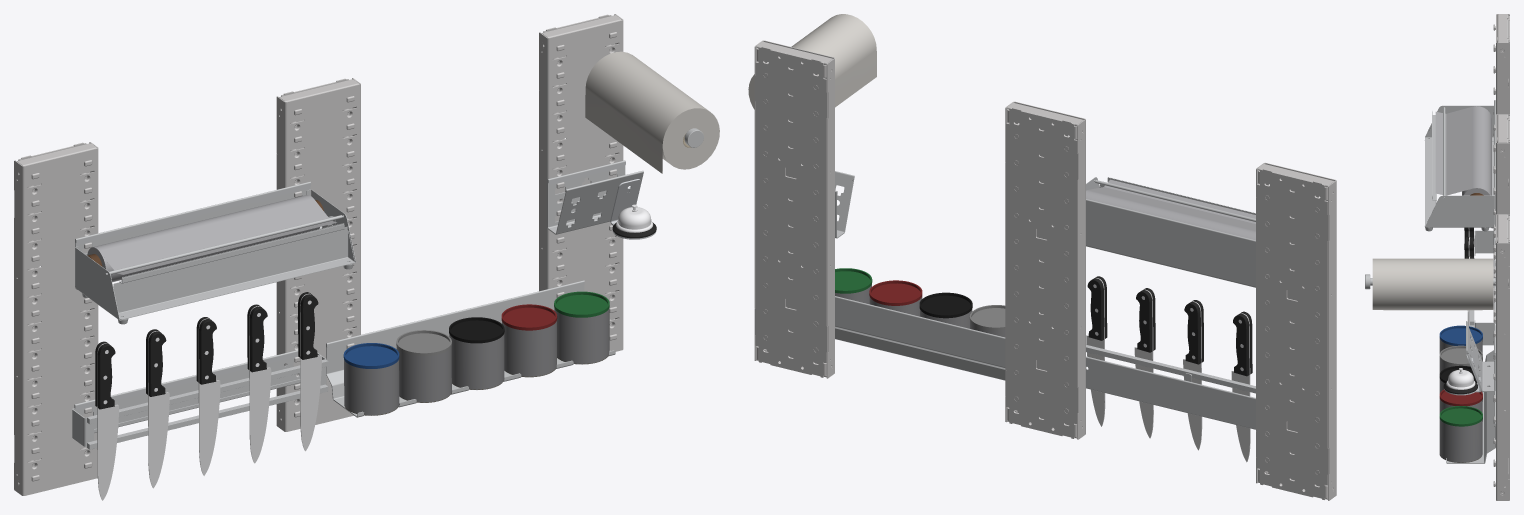
Rendered from projekt_1779613861360.glb.
3 views of the same model, side by side, from view 1: azimuth 30°, elevation 25°; view 2: azimuth 150°, elevation 25°; view 3: azimuth 270°, elevation 25° (orthographic). The views are drawn at different scales.
Parts seen in each view (by area): view 1: BF11_2660 (×3), M044_0002, Paper_Roll_M0001_0002_1, M044_0002_Foil_dispenser__Foil_1, M044_0004_Con__Bar_Magnet_440_STANDARD, M044_0003, M111_0001, spice_Blau_1, spice_Schwarz_1, spice_Gruen_1, spice_Rot_1, spice_Weiss_1 (+16 smaller); view 2: BF11_2660 (×3), M044_0002, M044_0003, M044_0004_Con__Bar_Magnet_440_STANDARD, Paper_Roll_M0001_0002_1, M044_0002_Foil_dispenser__Foil_1, spice_Rot_2, spice_Schwarz_2, messer_2_2, messer_4_2, messer_5_2, messer_3_2 (+3 smaller); view 3: BF11_2660 (×3), Paper_Roll_M0001_0002_1, M044_0002_Foil_dispenser__Foil_1, M044_0002, spice_Gruen_1, M044_0003, M111_0001, M044_0004_Con__Bar_Magnet_440_STANDARD, E100_0004, spice_Gruen_2, spice_Blau_2, spice_Weiss_2 (+3 smaller).
Boxes of the visible parts, box(x1,y1,x2,y2) form: BF11_2660 (×3): box(14, 14, 623, 495); M044_0002: box(75, 181, 356, 324); Paper_Roll_M0001_0002_1: box(585, 51, 719, 173); M044_0002_Foil_dispenser__Foil_1: box(87, 195, 336, 281); M044_0004_Con__Bar_Magnet_440_STANDARD: box(72, 350, 328, 449); M044_0003: box(326, 280, 615, 417); M111_0001: box(547, 160, 643, 234); spice_Blau_1: box(344, 360, 399, 415); spice_Schwarz_1: box(449, 334, 504, 389); spice_Gruen_1: box(554, 308, 609, 364); spice_Rot_1: box(502, 321, 556, 377); spice_Weiss_1: box(396, 347, 451, 402); BF11_2660 (×3): box(754, 40, 1336, 500); M044_0002: box(1086, 177, 1255, 287); M044_0003: box(835, 296, 1005, 380); M044_0004_Con__Bar_Magnet_440_STANDARD: box(1086, 345, 1255, 429); Paper_Roll_M0001_0002_1: box(748, 14, 876, 109); M044_0002_Foil_dispenser__Foil_1: box(1086, 179, 1255, 240); spice_Rot_2: box(869, 280, 922, 305); spice_Schwarz_2: box(919, 292, 972, 318); messer_2_2: box(1233, 311, 1252, 376); messer_4_2: box(1136, 288, 1155, 352); messer_5_2: box(1087, 276, 1107, 340); messer_3_2: box(1184, 300, 1203, 364); BF11_2660 (×3): box(1493, 14, 1509, 500); Paper_Roll_M0001_0002_1: box(1372, 258, 1493, 310); M044_0002_Foil_dispenser__Foil_1: box(1435, 106, 1491, 195); M044_0002: box(1424, 100, 1495, 231); spice_Gruen_1: box(1439, 419, 1482, 462); M044_0003: box(1446, 325, 1495, 463); M111_0001: box(1466, 321, 1495, 391); M044_0004_Con__Bar_Magnet_440_STANDARD: box(1470, 230, 1495, 345); E100_0004: box(1443, 354, 1481, 395); spice_Gruen_2: box(1439, 406, 1482, 426); spice_Blau_2: box(1439, 325, 1482, 345); spice_Weiss_2: box(1439, 345, 1482, 365).
Size of the model in its own units: 1.3 by 0.6749 by 0.3359.
